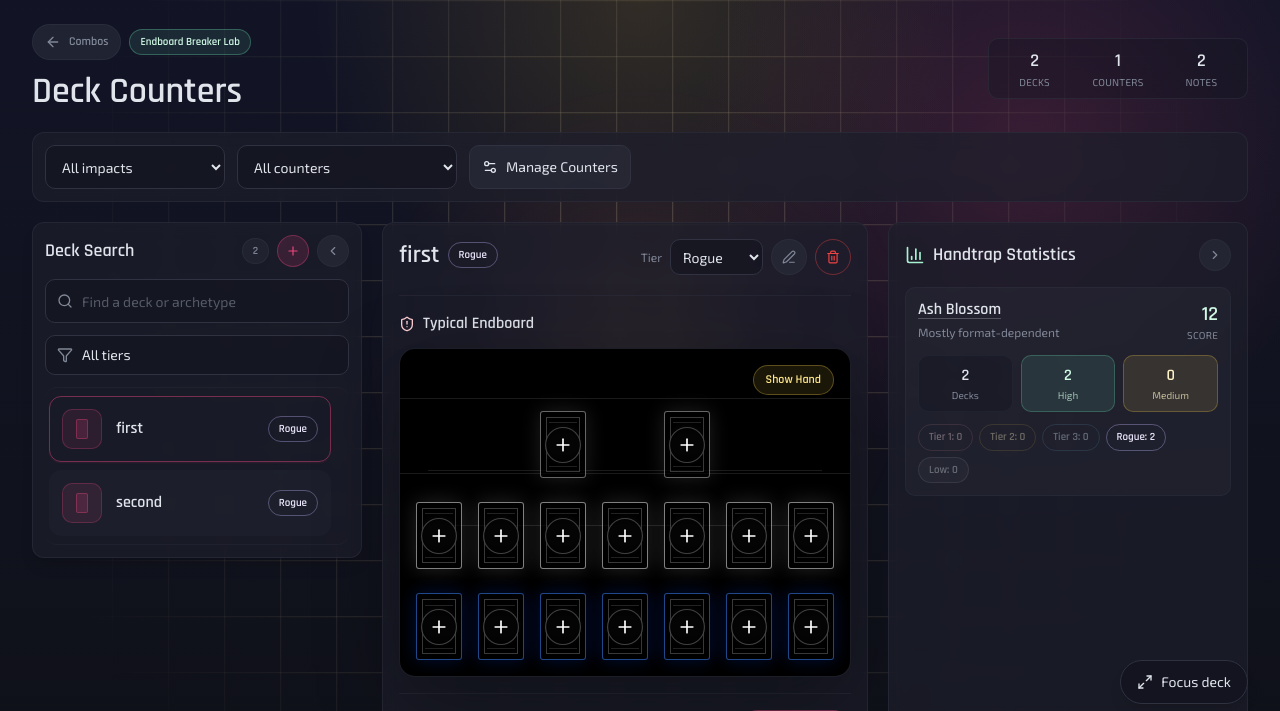
Test: DeckCounterGuide targetless matchups › confirms deck deletion, removes related data, and persists an empty guide
Later steps or results of the test are not shown.
Click the button named "Delete Deck" at [833, 257], box [815, 239, 851, 275]
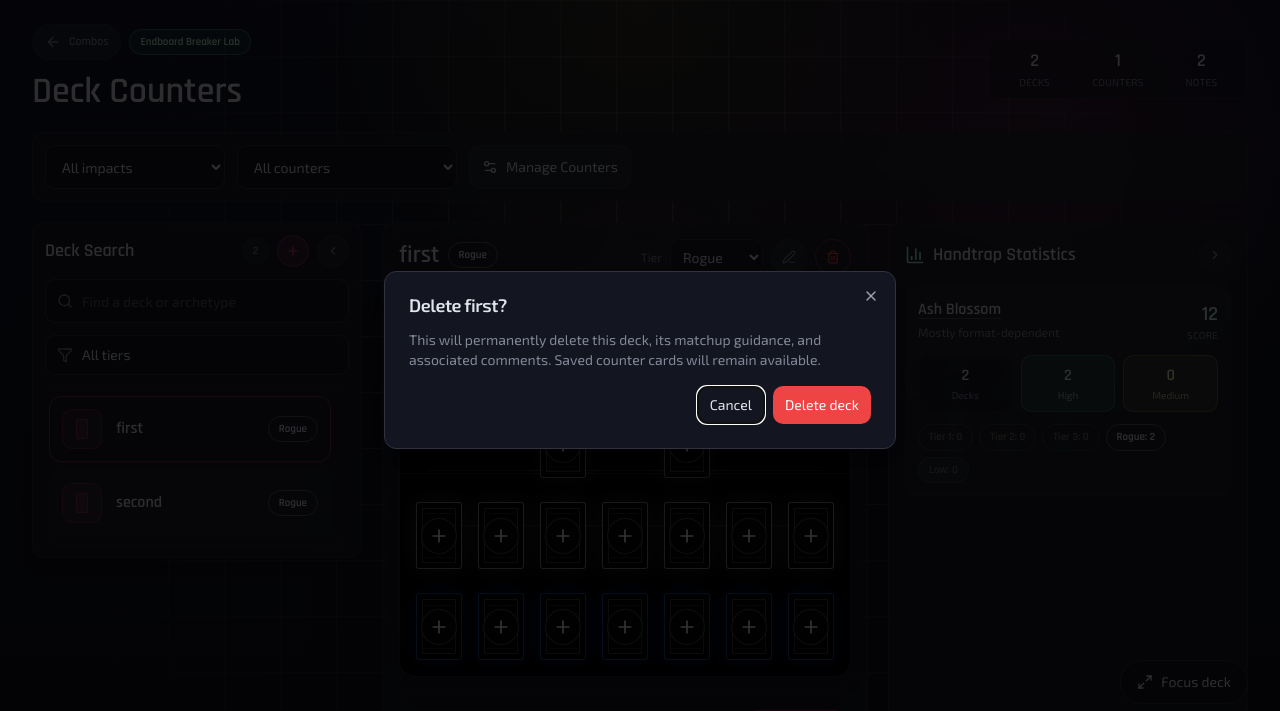
Click the button "Cancel" at [731, 405], box [697, 386, 765, 424]
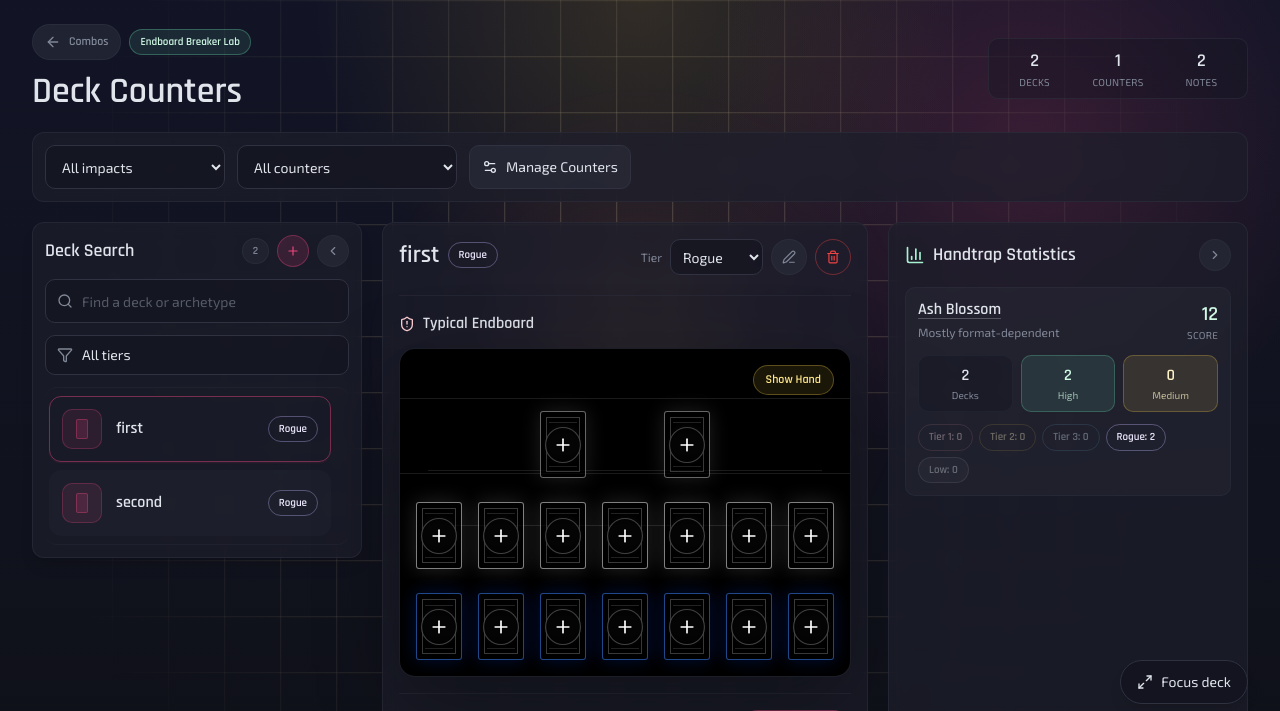
Click the button named "Delete Deck" at [833, 257], box [815, 239, 851, 275]
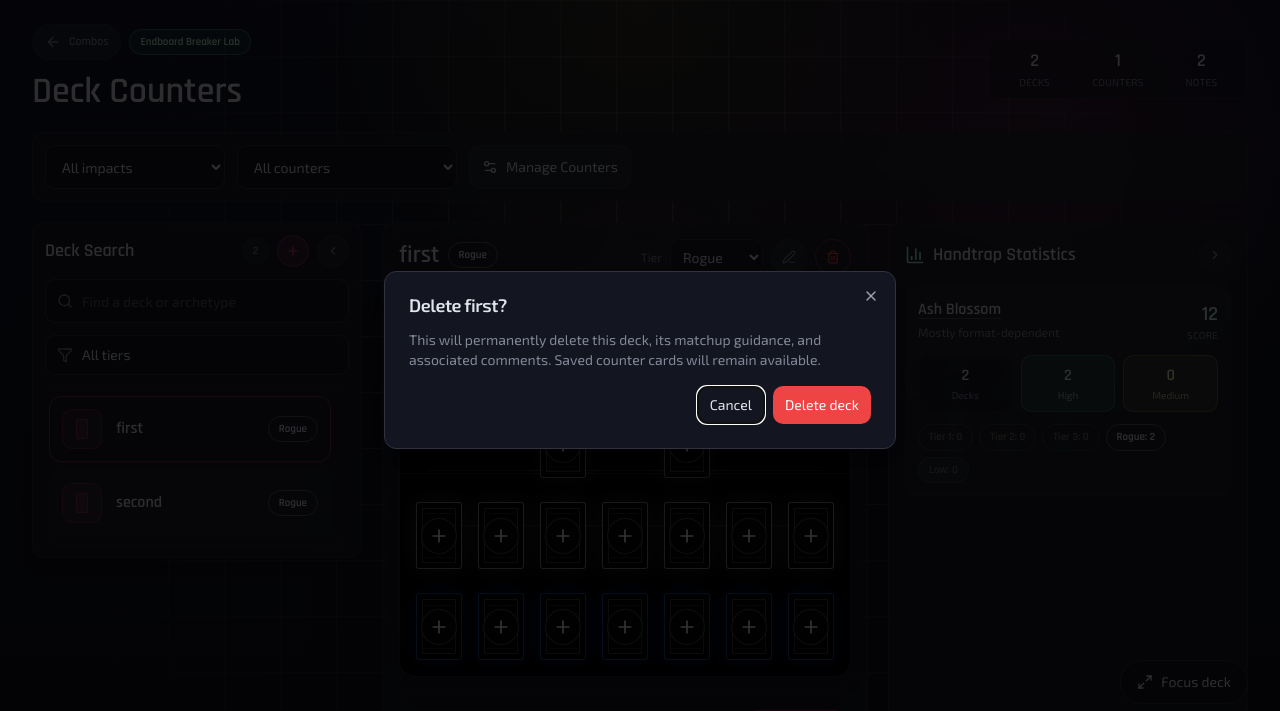
Click the button "Delete deck" at [822, 405], box [773, 386, 871, 424]
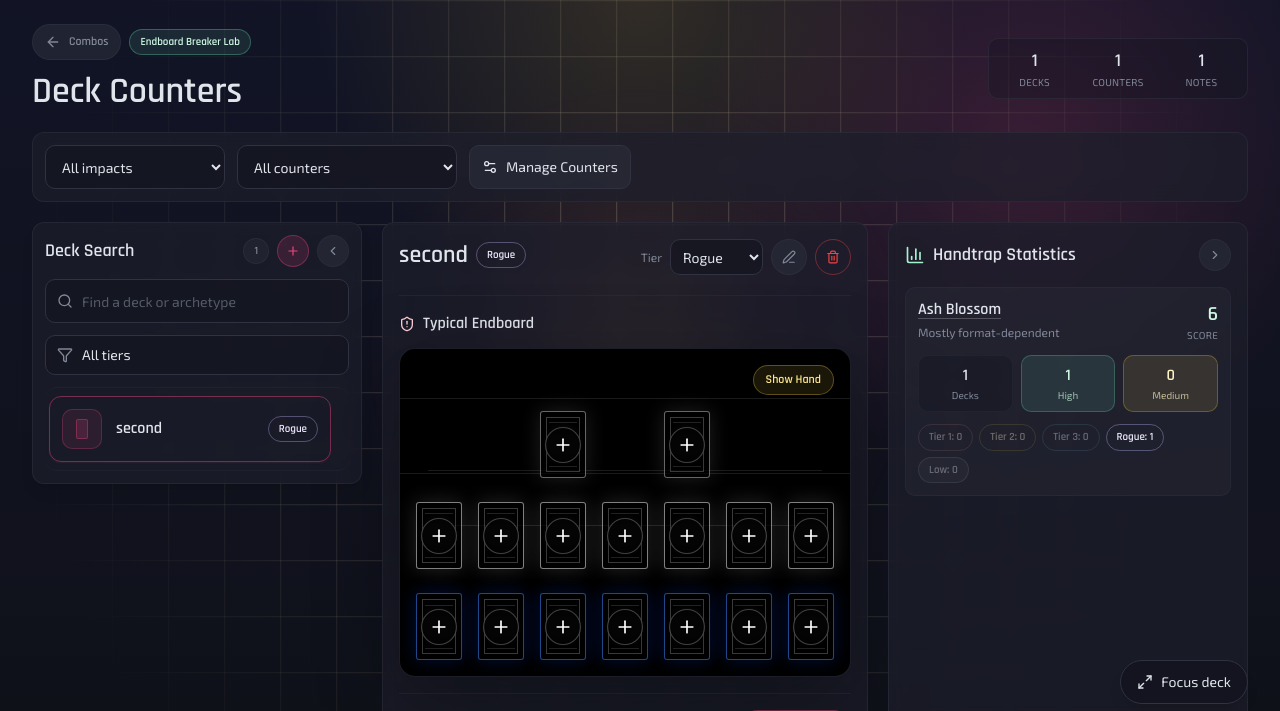
Expected: the heading "second" is shown, [399, 239, 468, 271]
